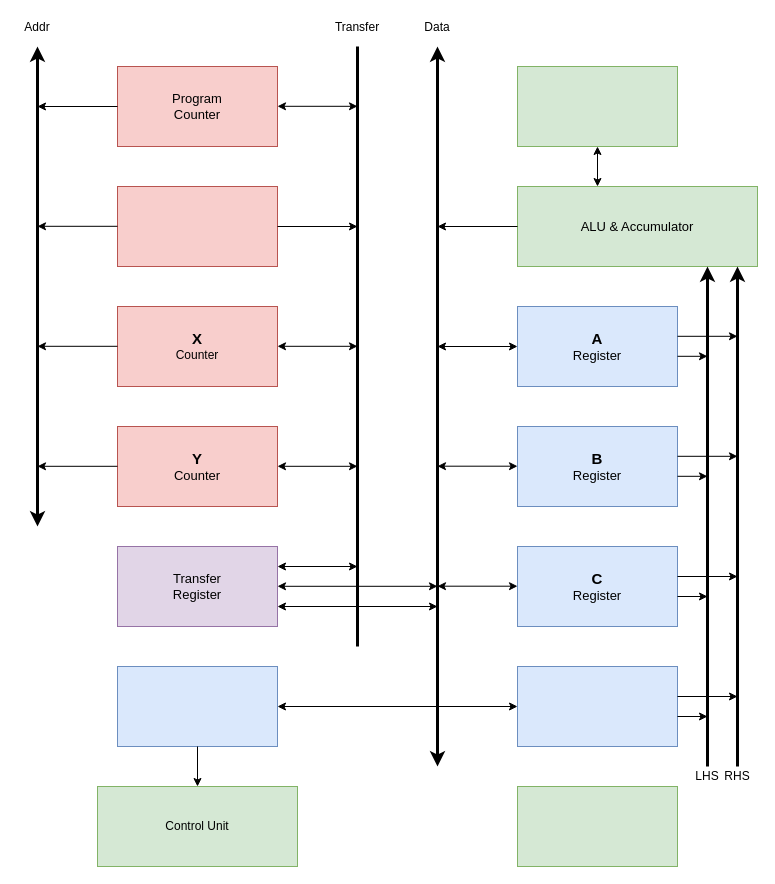
This 775x884 diagram has some shape labels left out. The box of each missing label's shape, as (x1, y1, x2, y2) in pixels:
Clock: (516, 786, 678, 866)
Immediate Load: (516, 666, 678, 746)
Instruction Register: (116, 666, 278, 746)
Stack Counter: (116, 186, 278, 266)
Status Register C N Z V L I: (516, 66, 678, 146)
